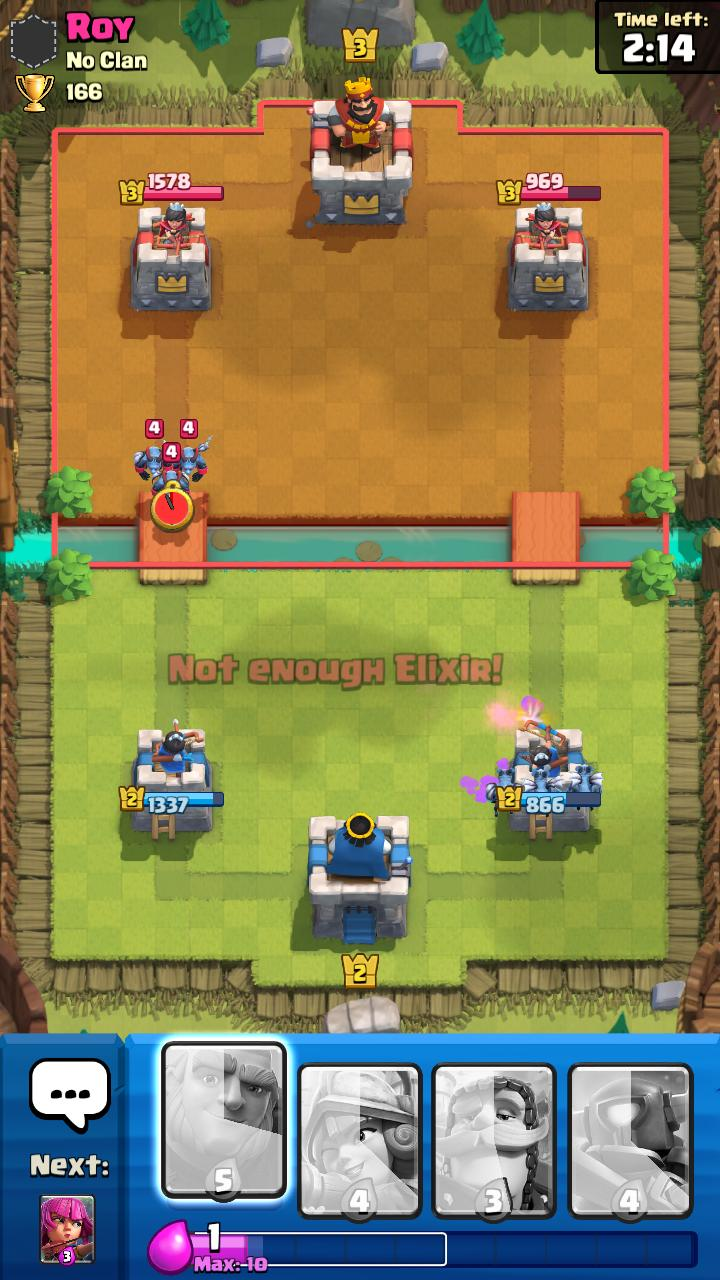enemy: (173, 419, 214, 482), (133, 419, 173, 481), (151, 442, 190, 496)
